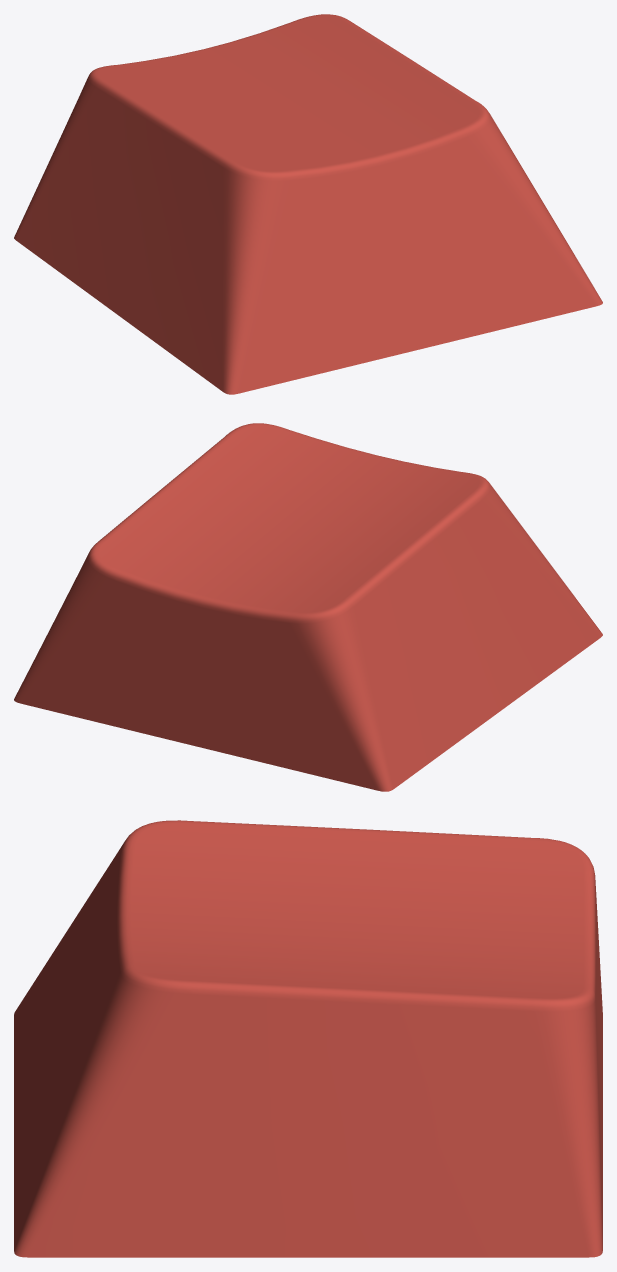
File: CHR-R2-1u.gltf
The picture shows the model from 3 angles, top to bottom: view 1: azimuth 30°, elevation 25°; view 2: azimuth 150°, elevation 25°; view 3: azimuth 270°, elevation 25°; orthographic projection. The views are drawn at different scales.
Visible parts, largest first — view 1: object 1; view 2: object 1; view 3: object 1.
Boxes of the visible parts, x1=… form: object 1: x1=14, y1=14, x2=602, y2=394; object 1: x1=14, y1=423, x2=602, y2=791; object 1: x1=14, y1=820, x2=602, y2=1257.
Bounding box in the file's own units: 1.81 × 0.7869 × 1.81.
